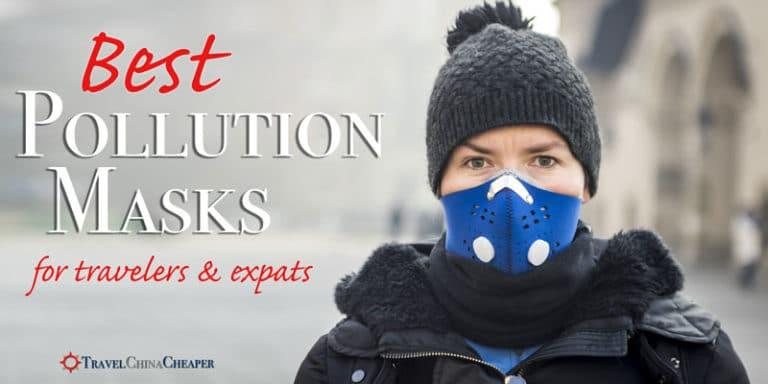Wearing Mask: (419, 2, 604, 308)
